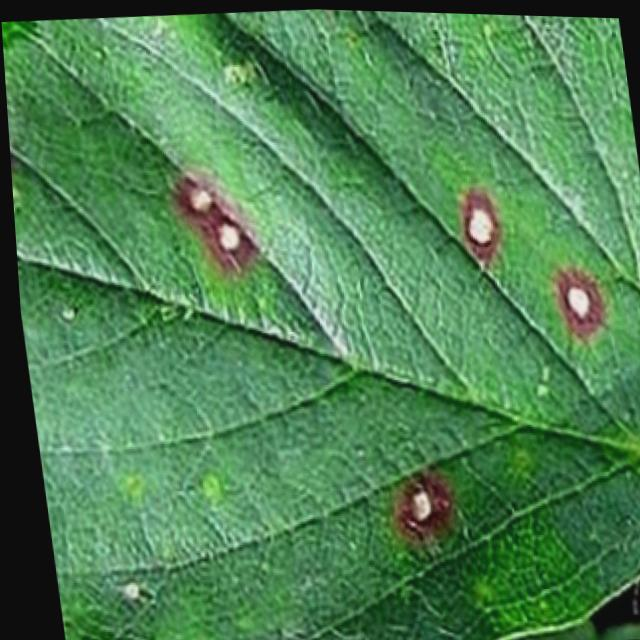Leaf Spot: (2, 7, 640, 640), (493, 615, 640, 640)
